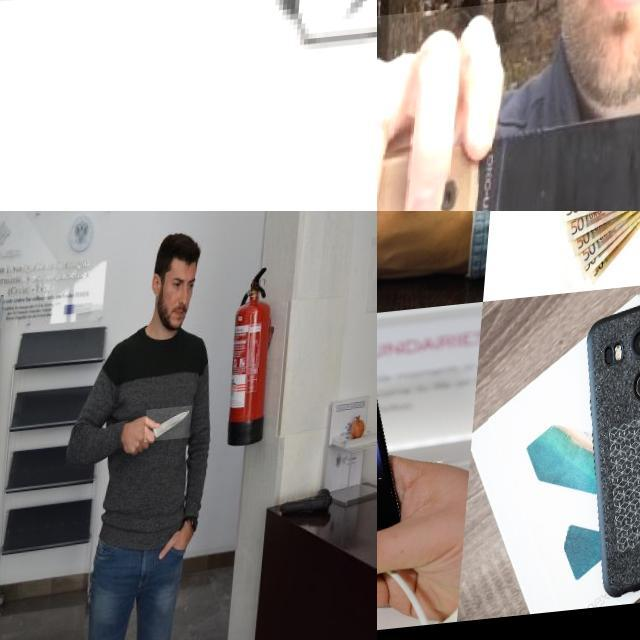-: (377, 0, 640, 211), (151, 412, 199, 448)
gun-knife-thesis - v11 Yolov5 augmented: (0, 0, 377, 211)
